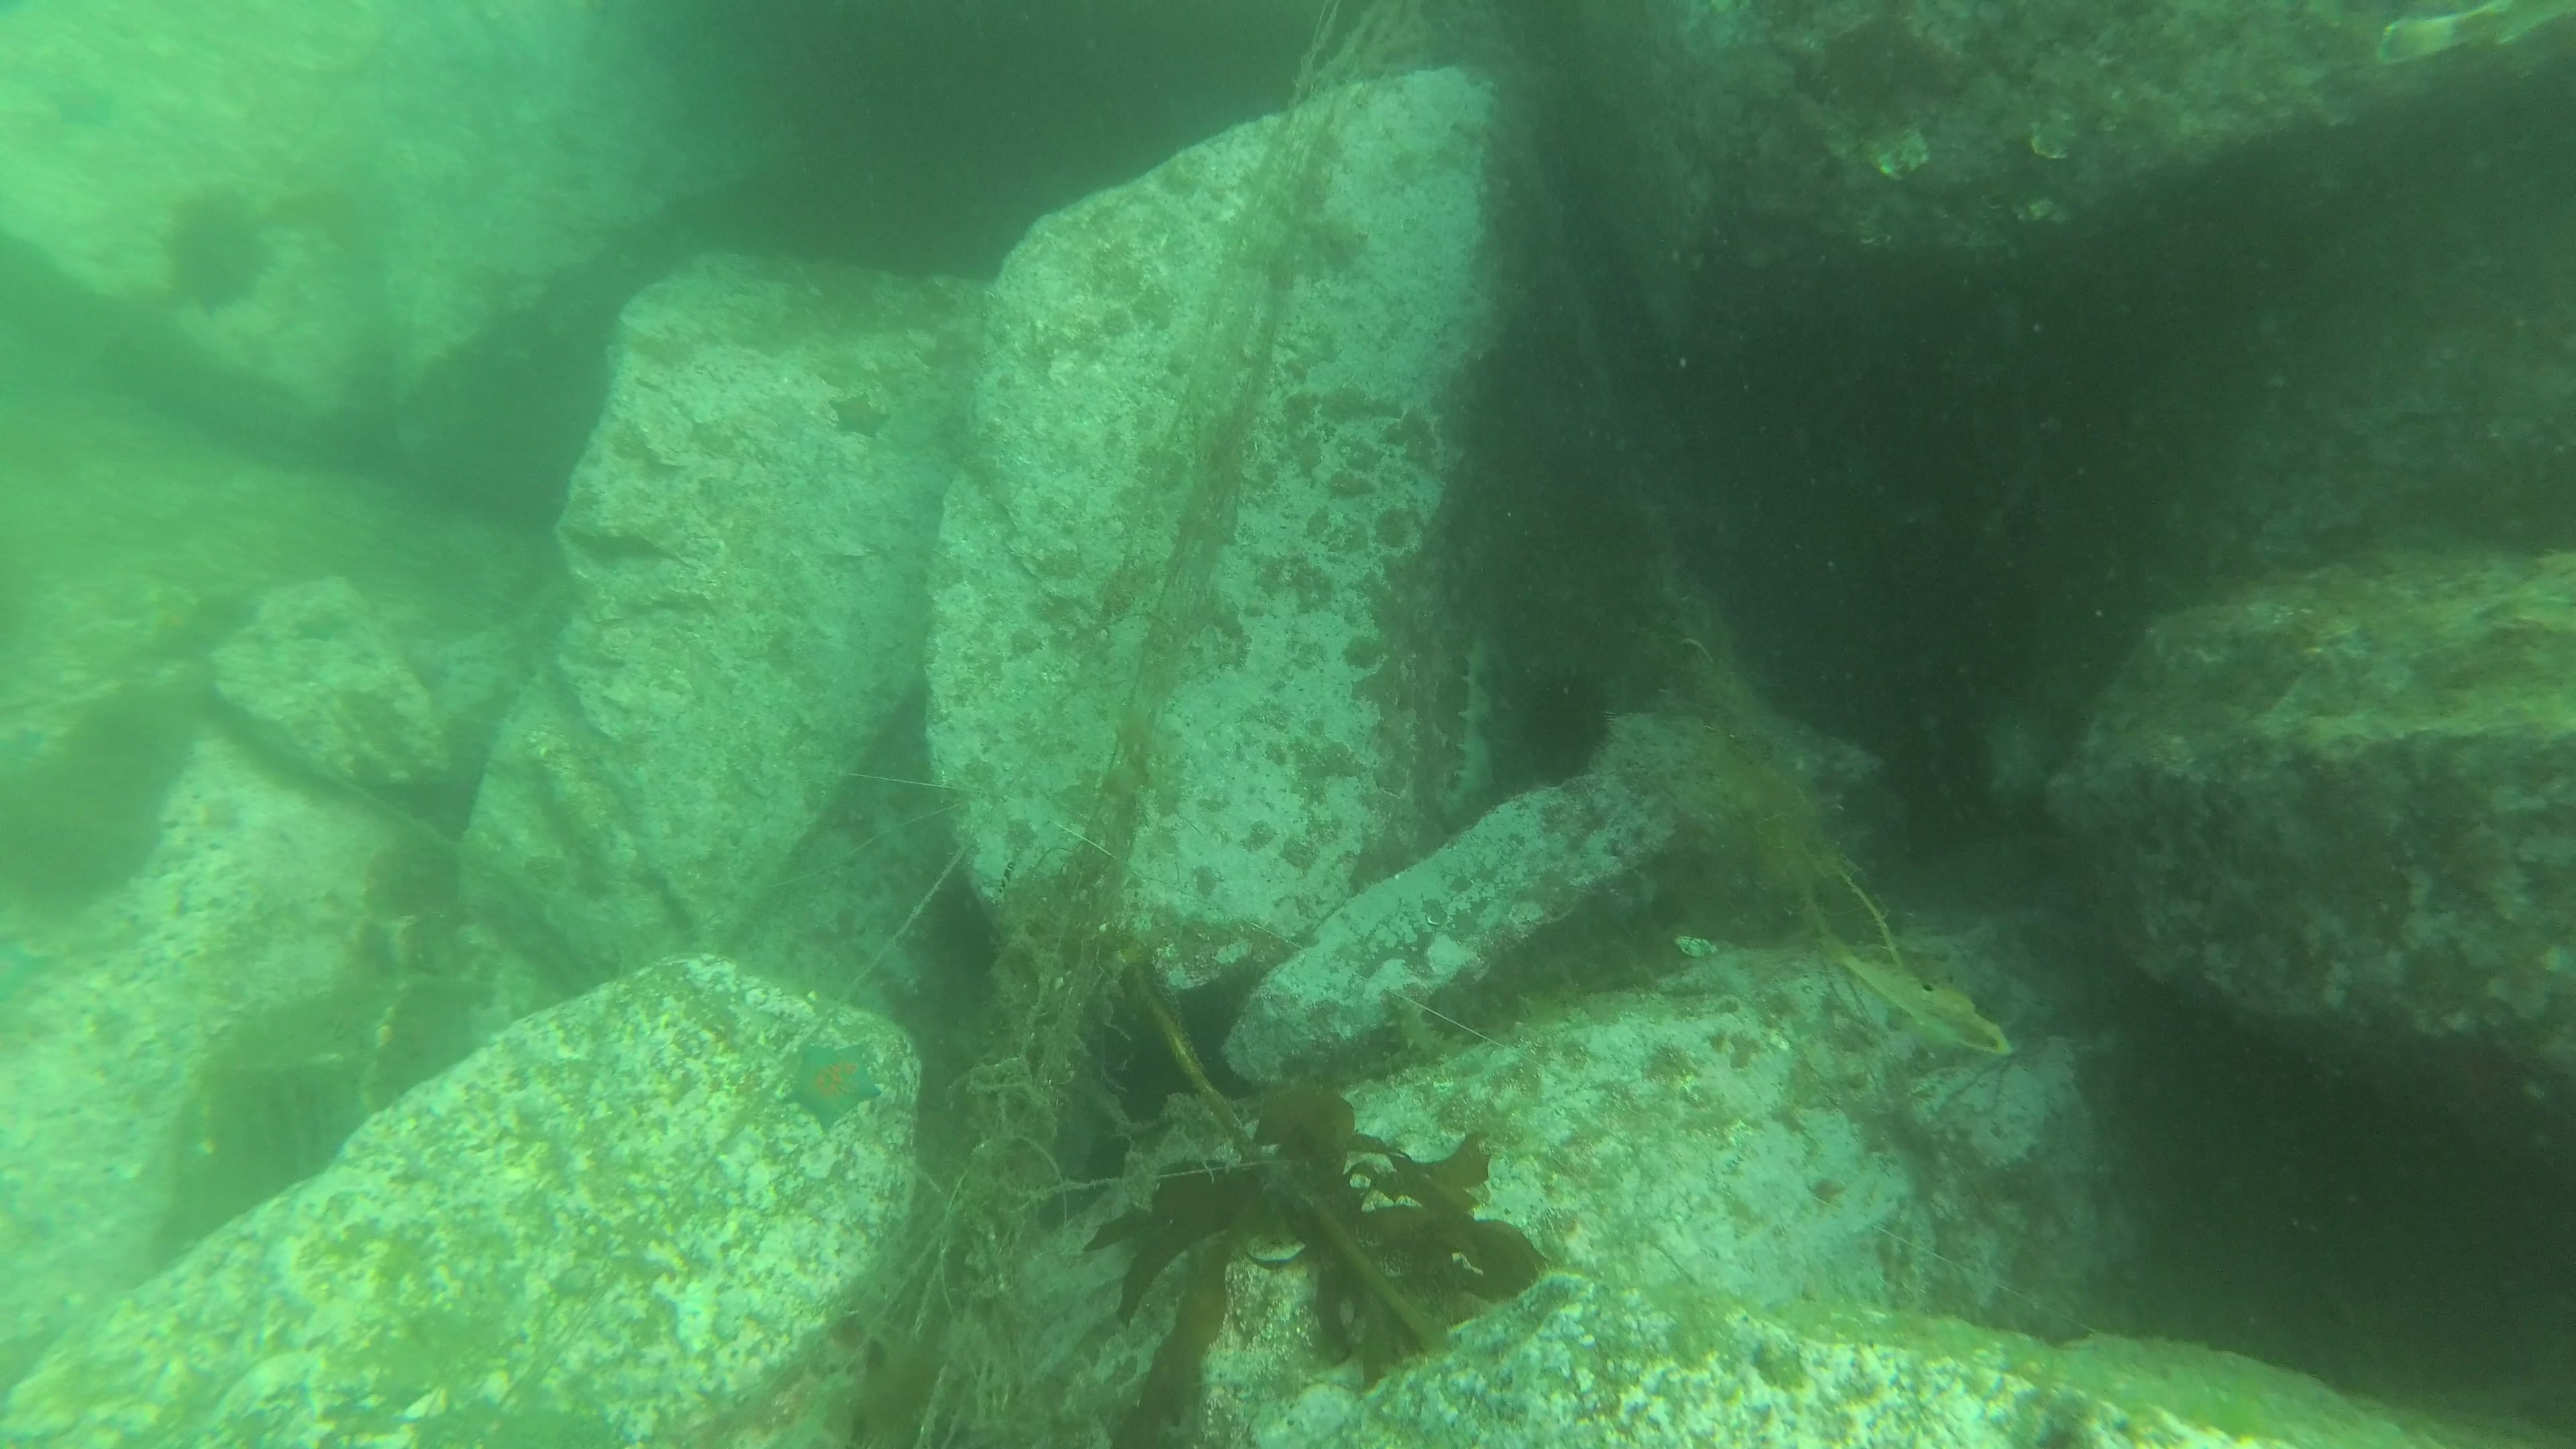echinus: (150, 180, 281, 317), (1529, 669, 1619, 787)
holothurian: (1453, 625, 1509, 821), (1375, 989, 1468, 1063)
starfish: (782, 1037, 890, 1138), (821, 389, 899, 444)
